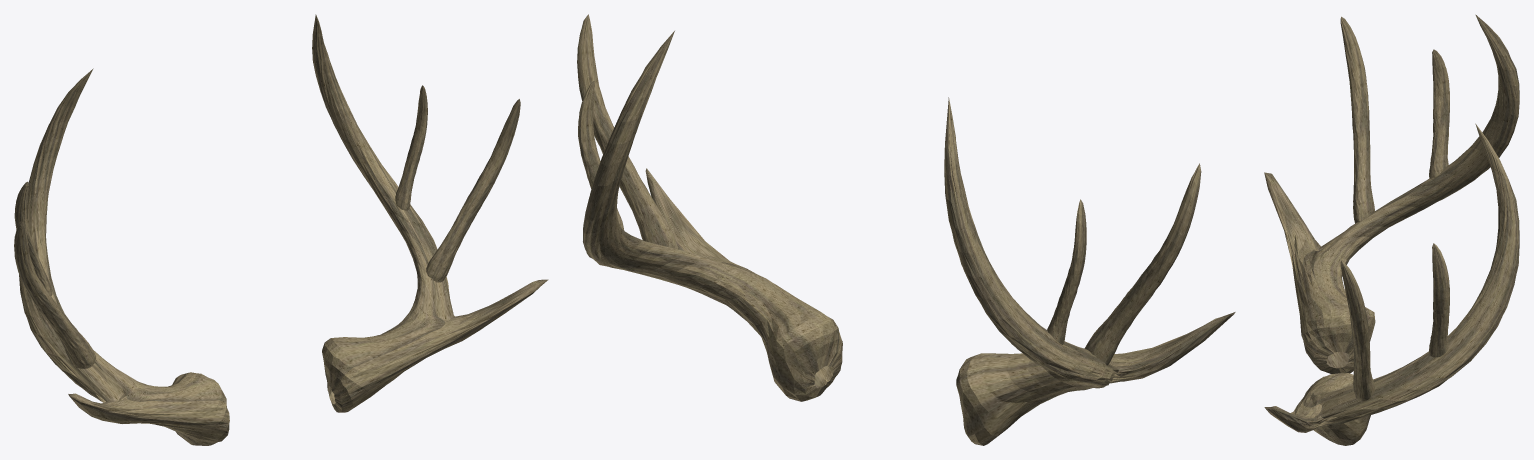
Rendered from mhw_elvs_deer_antlers_1.glb.
3 views of the same model, side by side, from view 1: azimuth 30°, elevation 25°; view 2: azimuth 150°, elevation 25°; view 3: azimuth 270°, elevation 25° (orthographic). The views are drawn at different scales.
Parts seen in each view (by area): view 1: mhw_elvs_deer_antlers_1; view 2: mhw_elvs_deer_antlers_1; view 3: mhw_elvs_deer_antlers_1.
Part boxes in pixels (box(x1,y1,x2,y2)): mhw_elvs_deer_antlers_1: box(14, 14, 548, 445); mhw_elvs_deer_antlers_1: box(577, 14, 1235, 445); mhw_elvs_deer_antlers_1: box(1264, 14, 1519, 445).
Bounding box in the file's own units: 0.4567 × 0.2941 × 0.2002.
1 material, 1 textured.
